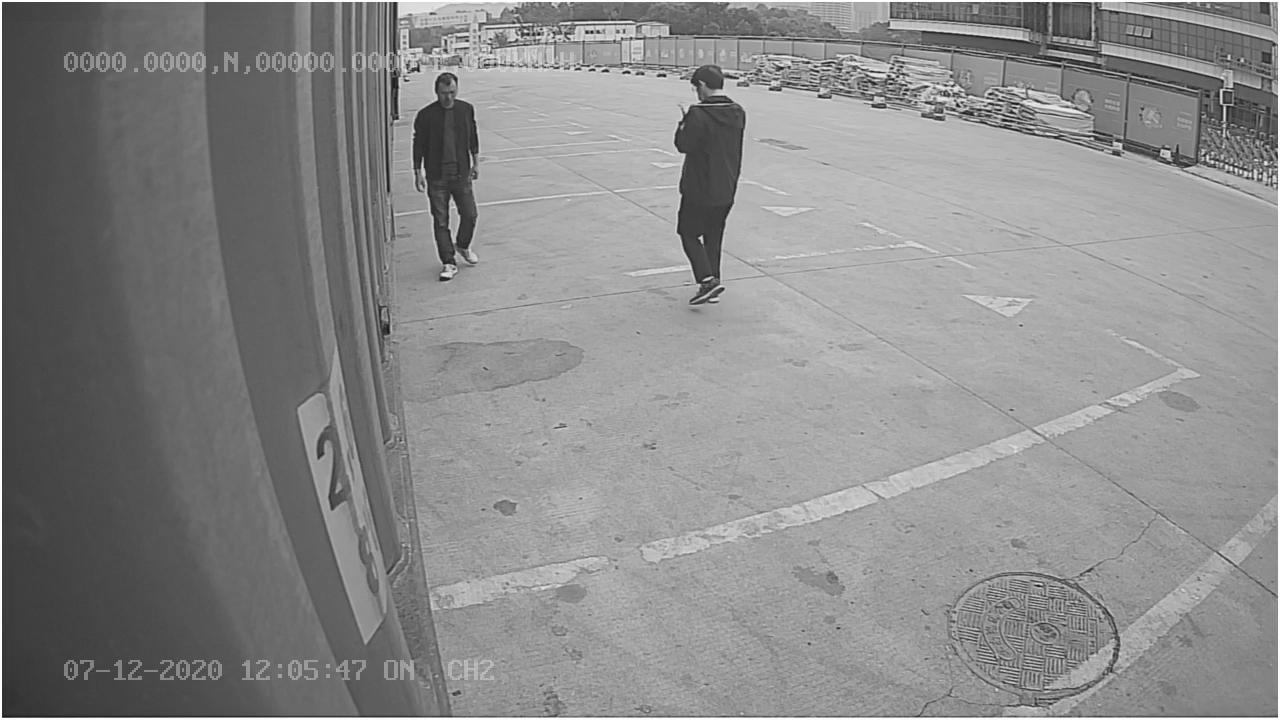person: (669, 60, 750, 311)
